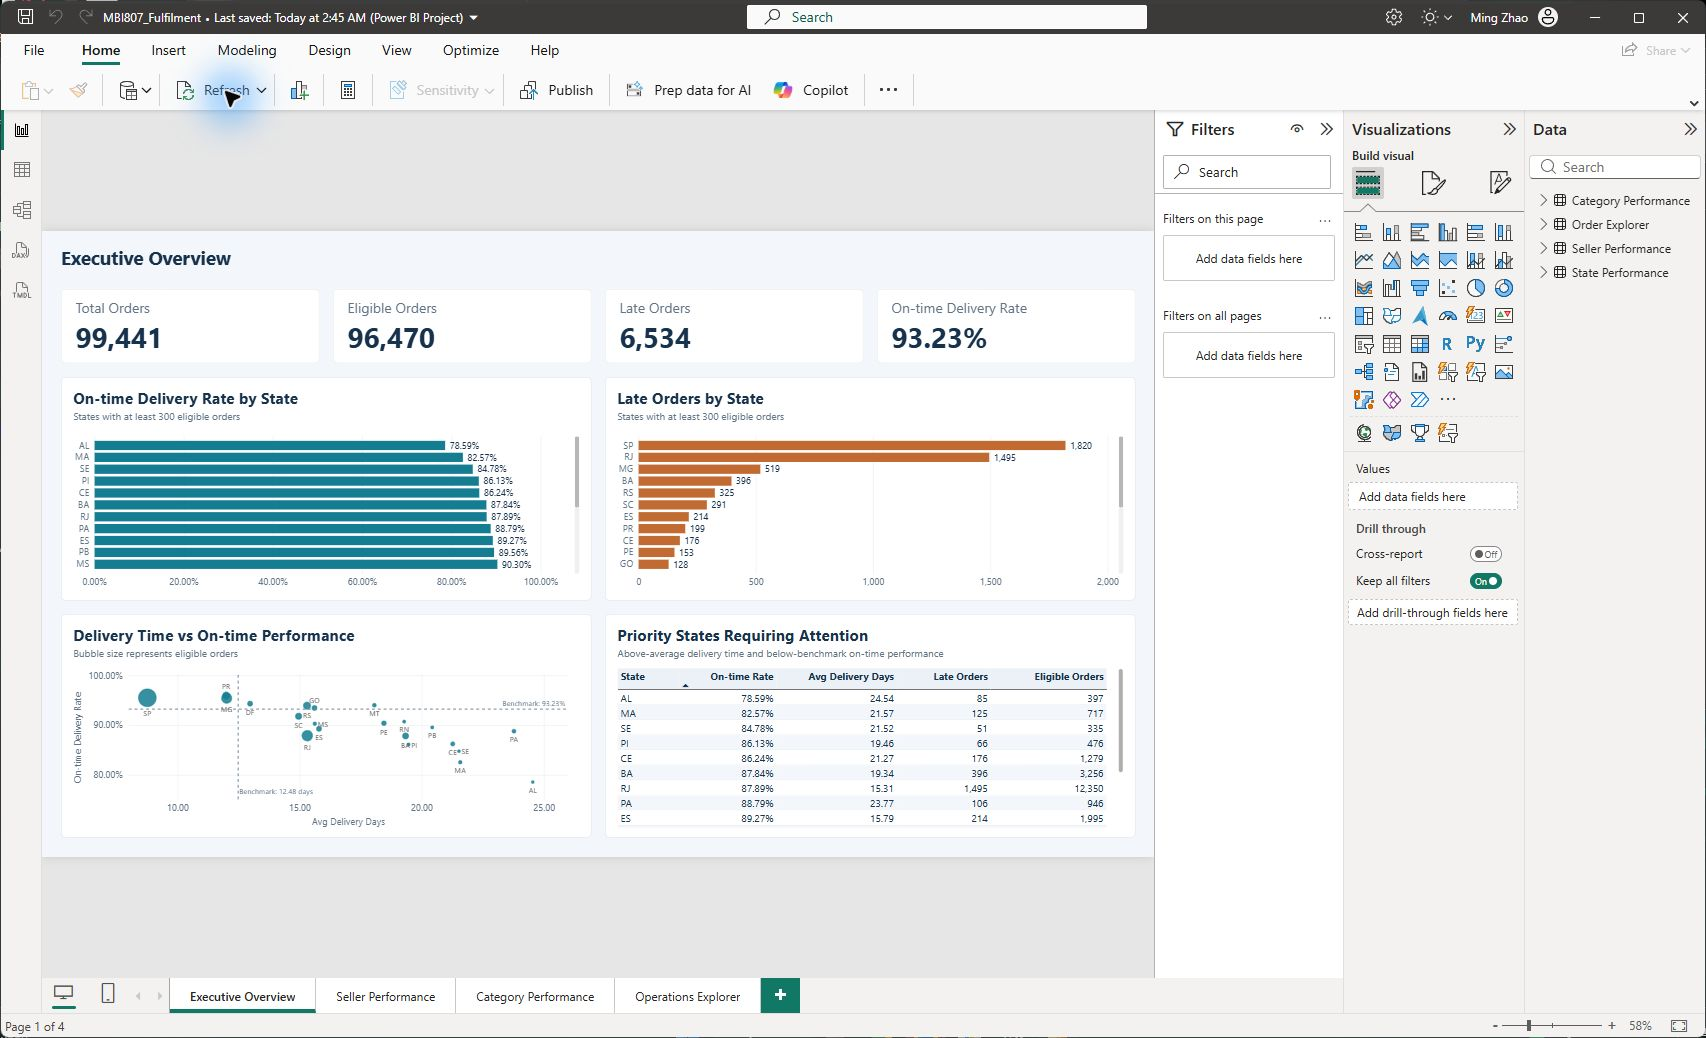

The dashboard page shown, as its layout file describes it:
{"tool":"powerbi","page":{"name":"Executive Overview","canvas":[1920,1080],"ordinal":0},"visuals":[{"type":"cardVisual","fields":{"Data":["State Performance.Late Orders"]},"box":[972,100,446,128],"z":0},{"type":"cardVisual","fields":{"Data":["State Performance.Eligible Orders"]},"box":[502,100,446,128],"z":1000},{"type":"cardVisual","fields":{"Data":["State Performance.On-time Delivery Rate"]},"box":[1442,100,446,128],"z":2000},{"type":"cardVisual","fields":{"Data":["State Performance.Total Orders"]},"box":[32,100,446,128],"z":3000},{"type":"clusteredBarChart","title":"On-time Delivery Rate by State","fields":{"Category":["State Performance.customer_state"],"Y":["State Performance.On-time Delivery Rate"]},"box":[32,252,916,386],"z":4000},{"type":"clusteredBarChart","title":"Late Orders by State","fields":{"Category":["State Performance.customer_state"],"Y":["State Performance.Late Orders"]},"box":[972,252,916,386],"z":5000},{"type":"scatterChart","title":"Delivery Time vs On-time Performance","fields":{"Category":["State Performance.customer_state"],"Size":["State Performance.Eligible Orders"],"X":["State Performance.Avg Delivery Days"],"Y":["State Performance.On-time Delivery Rate"]},"box":[32,662,916,386],"z":6000},{"type":"tableEx","title":"Priority States Requiring Attention","fields":{"Values":["State Performance.customer_state","State Performance.On-time Delivery Rate","State Performance.Avg Delivery Days","State Performance.Late Orders","State Performance.Eligible Orders"]},"box":[972,662,916,386],"z":7000},{"type":"textbox","box":[32,24,1720,56],"z":9000}]}

Visuals, with their boxes on the page's 1920x1080 design canvas (x1, y1, x2, y2). These are canvas units, not pixel positions in the 1706x1038 screenshot, which may show the page scaled, cropped or inside an application window:
cardVisual - State Performance.Late Orders: (x1=972, y1=100, x2=1418, y2=228)
cardVisual - State Performance.Eligible Orders: (x1=502, y1=100, x2=948, y2=228)
cardVisual - State Performance.On-time Delivery Rate: (x1=1442, y1=100, x2=1888, y2=228)
cardVisual - State Performance.Total Orders: (x1=32, y1=100, x2=478, y2=228)
"On-time Delivery Rate by State" clusteredBarChart: (x1=32, y1=252, x2=948, y2=638)
"Late Orders by State" clusteredBarChart: (x1=972, y1=252, x2=1888, y2=638)
"Delivery Time vs On-time Performance" scatterChart: (x1=32, y1=662, x2=948, y2=1048)
"Priority States Requiring Attention" tableEx: (x1=972, y1=662, x2=1888, y2=1048)
textbox: (x1=32, y1=24, x2=1752, y2=80)
